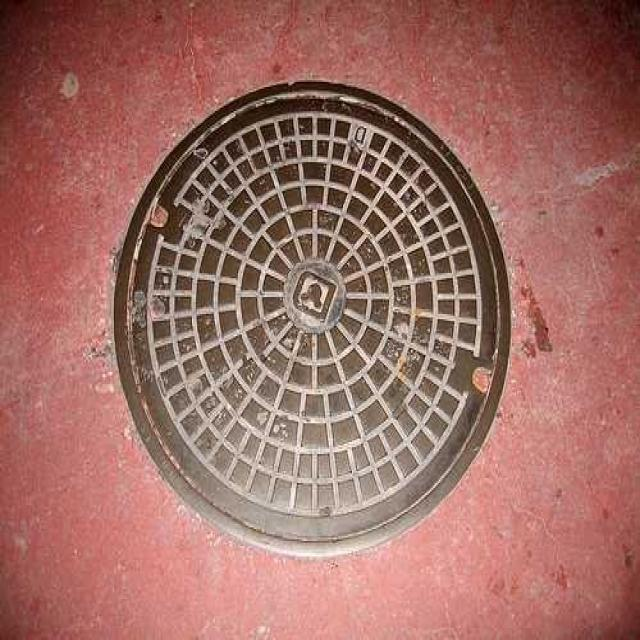manhole: (116, 82, 510, 554)
